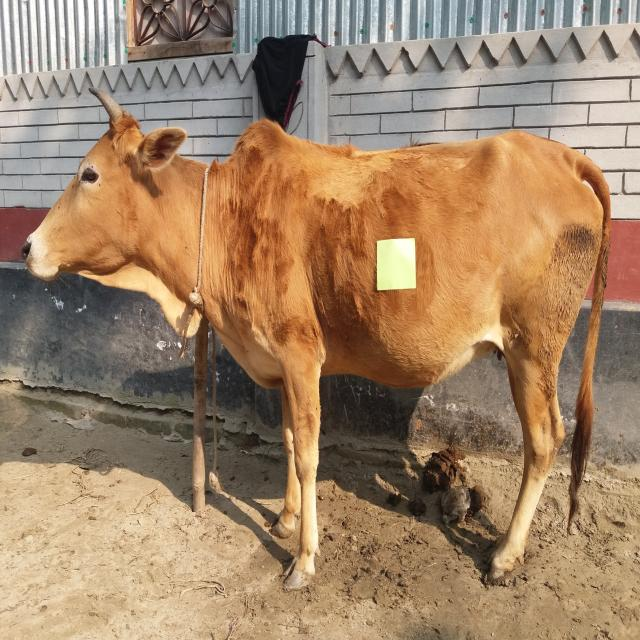badan_sapi: (244, 118, 604, 396)
sapi: (16, 81, 614, 593)
